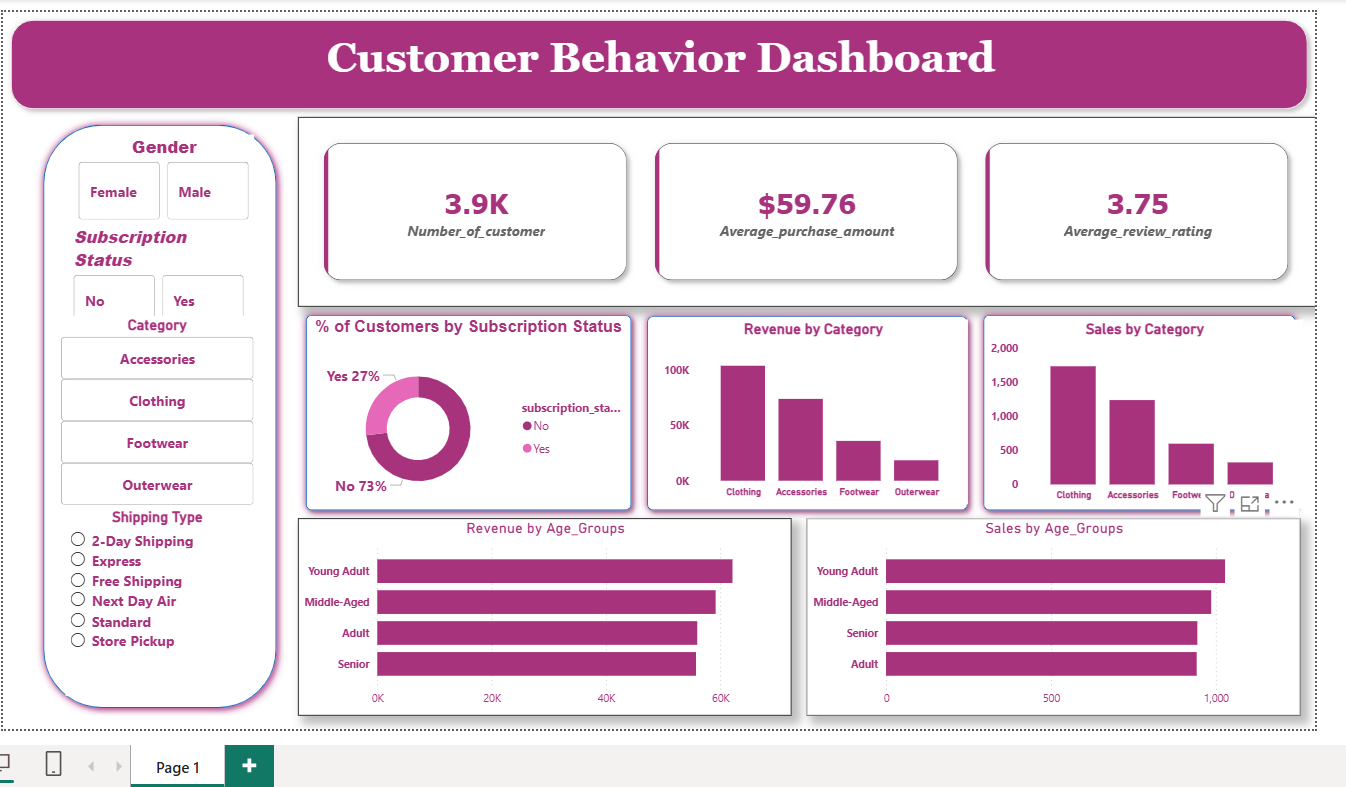

Layout of this report page (visuals, bound fields, positions):
{"tool":"powerbi","page":{"name":"Page 1","canvas":[1500,820],"ordinal":0},"visuals":[{"type":"cardVisual","fields":{"Data":["public customer.Number_of_customer","public customer.Average_purchase_amount","public customer.Average_review_rating"]},"box":[337.1,120,1162.9,217.1],"z":0},{"type":"shape","box":[0,0,1500,120],"z":1},{"type":"textbox","box":[61.4,17.1,1392.9,70],"z":2},{"type":"shape","box":[337.1,337.1,390,241.4],"z":3},{"type":"donutChart","title":"% of Customers by Subscription Status ","fields":{"Category":["public customer.subscription_status"],"Y":["public customer.Number_of_customer"]},"box":[351.4,348.6,361.4,214.3],"z":4},{"type":"shape","box":[727.1,338.6,384.3,240],"z":7},{"type":"shape","box":[1111.4,337.1,374.3,241.4],"z":8},{"type":"columnChart","title":"Revenue by Category","fields":{"Category":["public customer.category"],"Y":["Sum(public customer.purchase_amount)"]},"box":[750,351.4,352.9,211.4],"z":9},{"type":"columnChart","title":"Sales by Category","fields":{"Category":["public customer.category"],"Y":["CountNonNull(public customer.customer_id)"]},"box":[1124.3,351.4,361.4,215.7],"z":10},{"type":"shape","box":[37.1,120,284.3,684.3],"z":11},{"type":"advancedSlicerVisual","title":"Gender","fields":{"Values":["public customer.gender"]},"box":[81.4,140,205.7,102.9],"z":12},{"type":"advancedSlicerVisual","title":"Subscription Status","fields":{"Values":["public customer.subscription_status"]},"box":[75.7,242.9,205.7,120],"z":13},{"type":"advancedSlicerVisual","title":"Category","fields":{"Values":["public customer.category"]},"box":[61.4,347.1,230,222.9],"z":14},{"type":"listSlicer","title":"Shipping Type","fields":{"Values":["public customer.shipping_type"]},"box":[71.4,567.1,210,214.3],"z":15},{"type":"clusteredBarChart","title":"Revenue by Age_Groups","fields":{"Y":["Sum(public customer.purchase_amount)"],"Category":["public customer.age_groups"]},"box":[337.1,578.6,564.3,225.7],"z":16},{"type":"clusteredBarChart","title":"Sales by Age_Groups","fields":{"Category":["public customer.age_groups"],"Y":["CountNonNull(public customer.customer_id)"]},"box":[918.6,578.6,564.3,225.7],"z":17}]}

Visuals, with their boxes in screenshot pixels (x1, y1, x2, y2):
cardVisual - public customer.Number_of_customer x public customer.Average_purchase_amount: <region>284, 110, 1313, 302</region>
shape: <region>0, 4, 1313, 110</region>
textbox: <region>40, 19, 1273, 81</region>
shape: <region>284, 302, 629, 515</region>
"% of Customers by Subscription Status " donutChart: <region>297, 312, 617, 502</region>
shape: <region>629, 303, 969, 516</region>
shape: <region>969, 302, 1301, 515</region>
"Revenue by Category" columnChart: <region>650, 314, 962, 502</region>
"Sales by Category" columnChart: <region>981, 314, 1301, 505</region>
shape: <region>19, 110, 270, 715</region>
"Gender" advancedSlicerVisual: <region>58, 127, 240, 218</region>
"Subscription Status" advancedSlicerVisual: <region>53, 218, 235, 325</region>
"Category" advancedSlicerVisual: <region>40, 311, 244, 508</region>
"Shipping Type" listSlicer: <region>49, 505, 235, 695</region>
"Revenue by Age_Groups" clusteredBarChart: <region>284, 516, 784, 715</region>
"Sales by Age_Groups" clusteredBarChart: <region>799, 516, 1298, 715</region>
